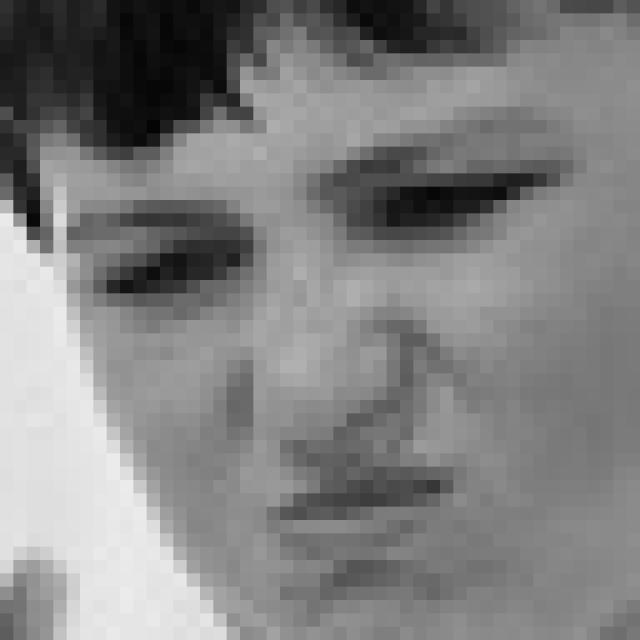disgust: (65, 109, 608, 604)
